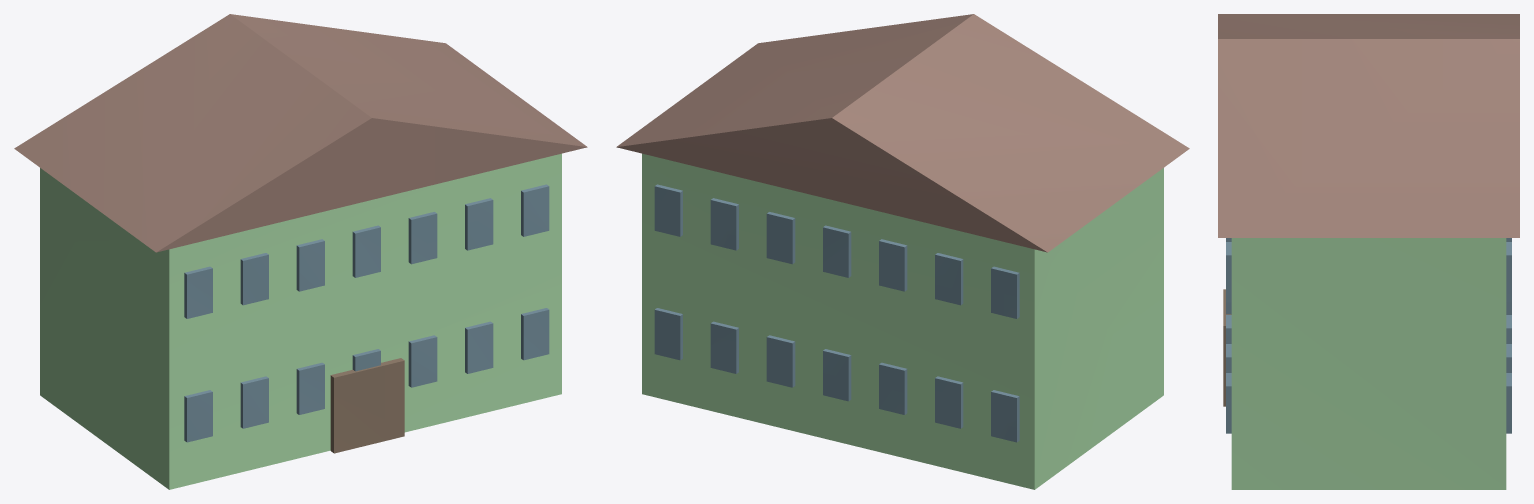
File: station-03.glb
3 renders of one model, left to right at view 1: azimuth 30°, elevation 25°; view 2: azimuth 150°, elevation 25°; view 3: azimuth 270°, elevation 25°, orthographic. The views are drawn at different scales.
Visible parts, largest first — view 1: world; view 2: world; view 3: world.
Part boxes in pixels (left/top/right/bottom): world: left=14, top=14, right=587, bottom=489; world: left=616, top=14, right=1189, bottom=489; world: left=1218, top=14, right=1519, bottom=489.
Bounding box in the file's own units: 2.39 × 1.74 × 1.36.
